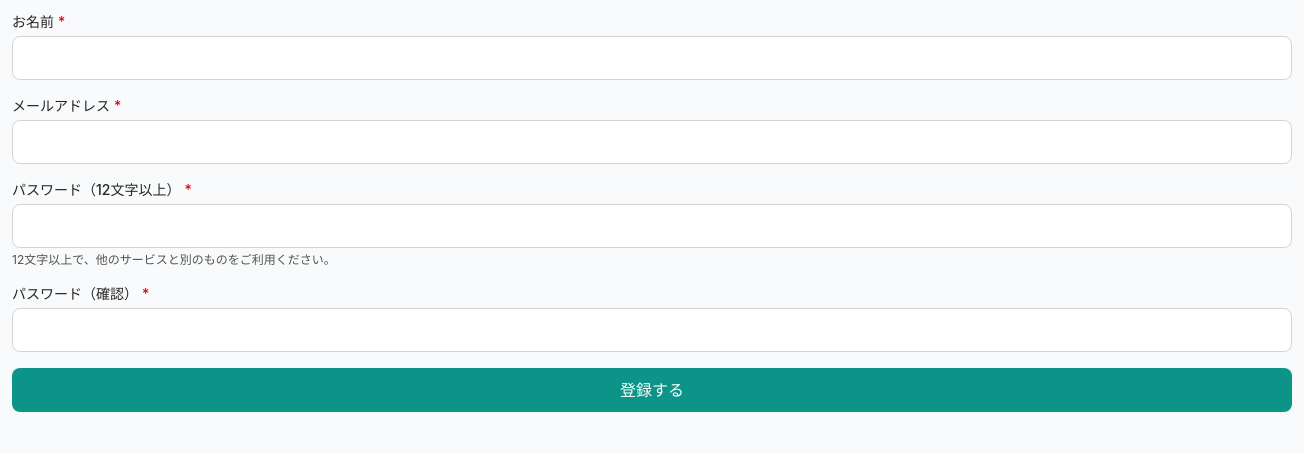
Scenario: RegisterForm › 確認用パスワードが一致しなければエラー
Step 1. Type "山田" into the field labelled "お名前" → (652, 58), box [12,36,1292,80]
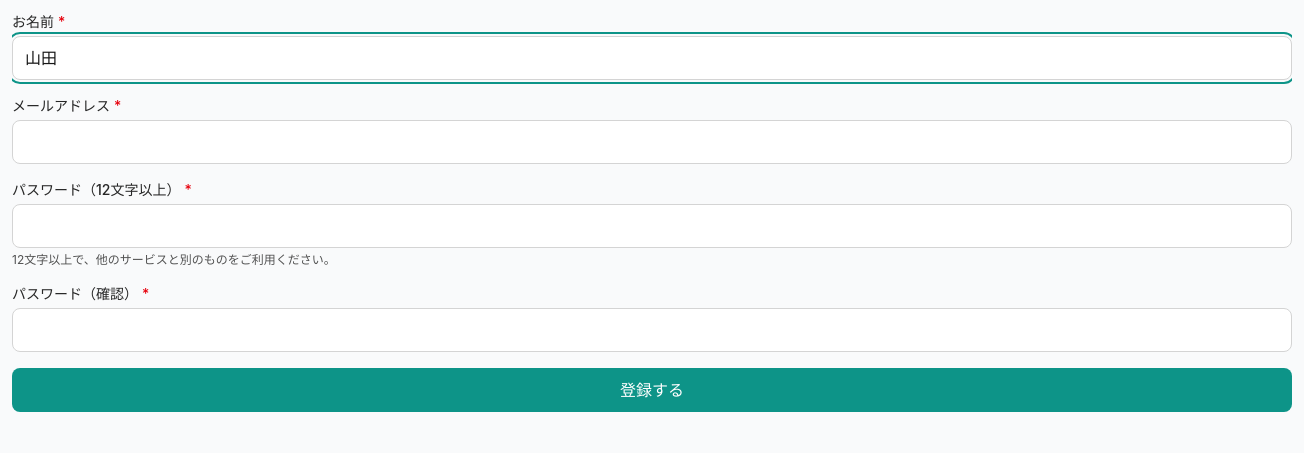
Step 2. Type "a@example.com" into the field labelled "メールアドレス" → (652, 142), box [12,120,1292,164]
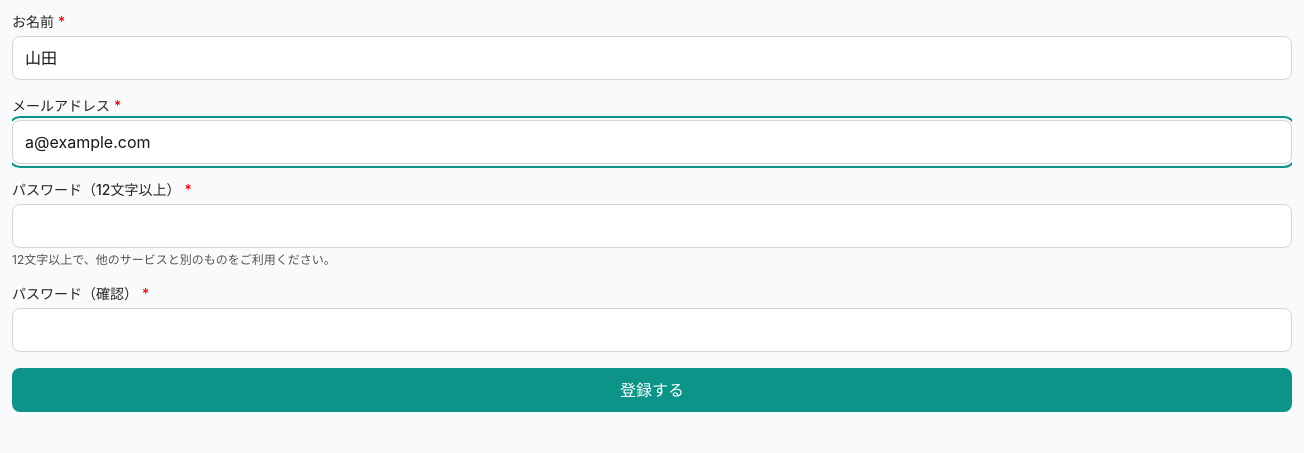
Step 3. Type "abcdefghijkl" into the password field labelled "パスワード（12文字以上）" → (652, 226), box [12,204,1292,248]
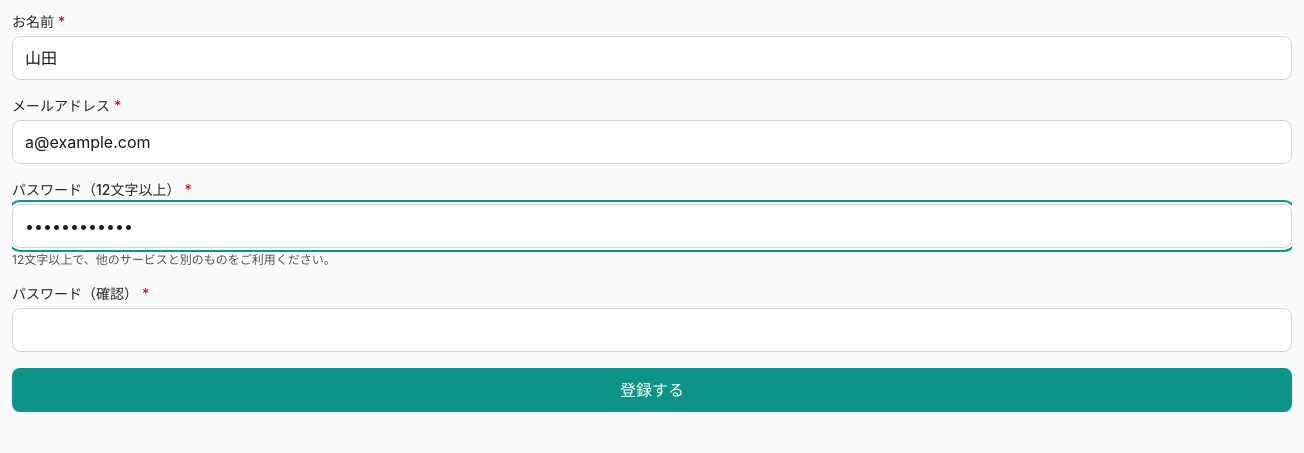
Step 4. Type "abcdefghijkx" into the password field labelled "パスワード（確認）" → (652, 330), box [12,308,1292,352]
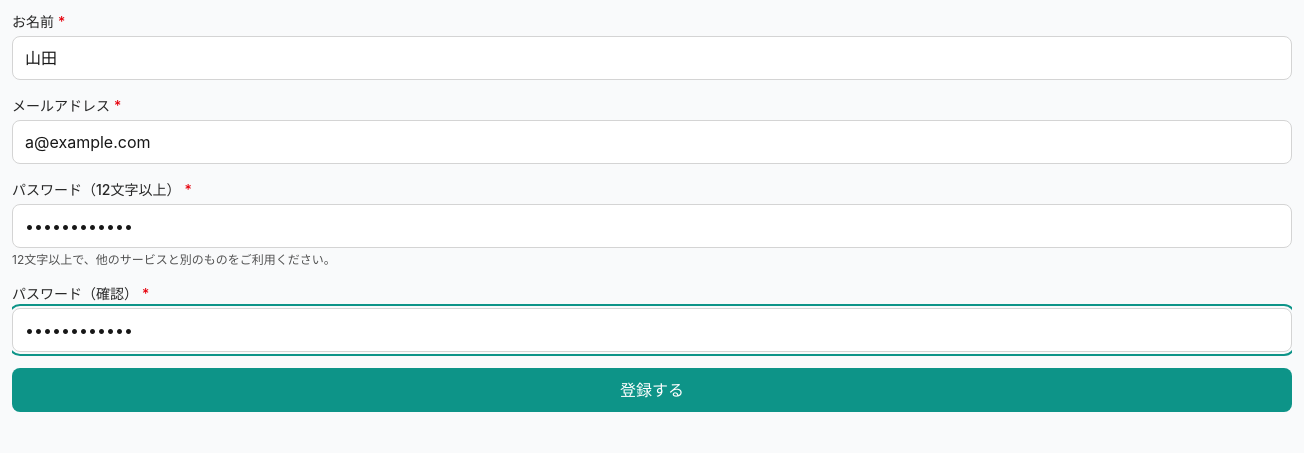
Step 5. Click the button "登録する" → (652, 390), box [12,368,1292,412]
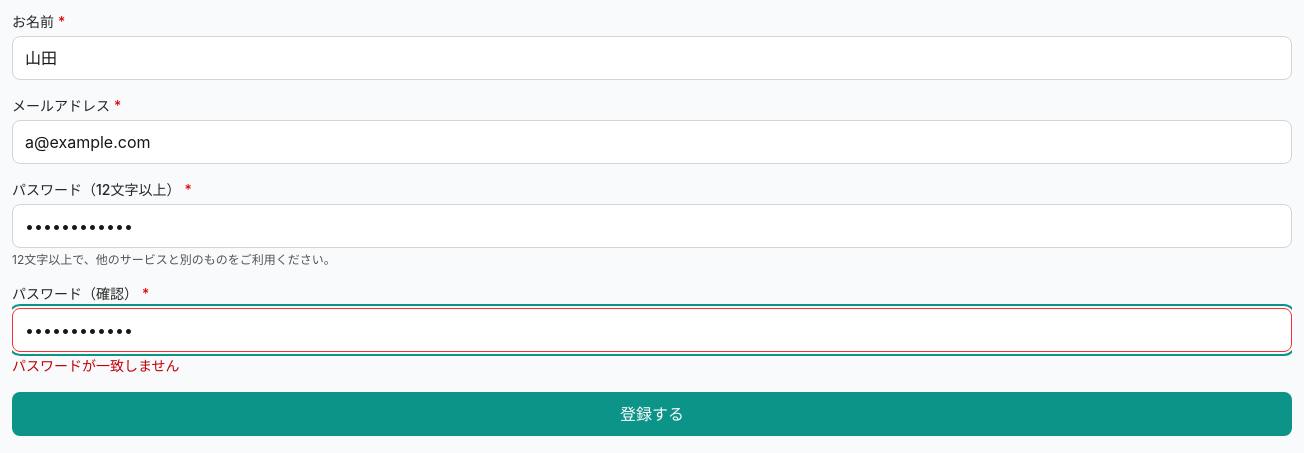
Check: the text "パスワードが一致しません" is shown, box [12,357,180,374]
